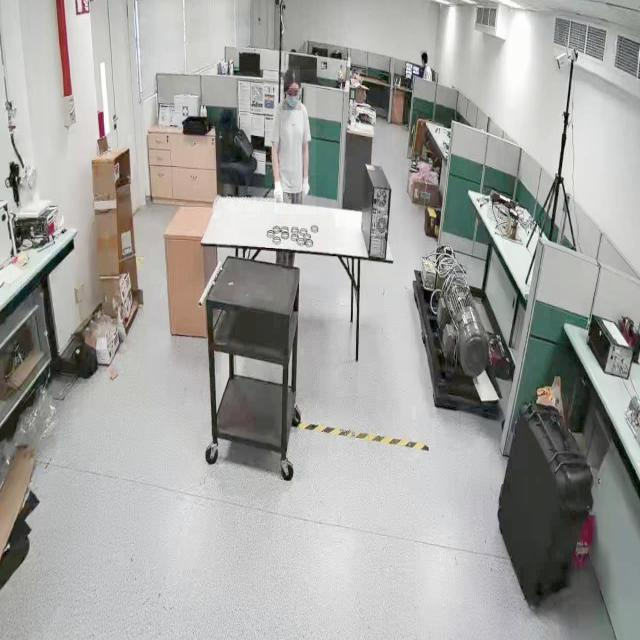face_mask: (283, 88, 301, 110)
hand_glove: (301, 178, 312, 204), (274, 182, 284, 201)
head_nohelmet: (282, 66, 300, 87), (420, 51, 428, 58)
person: (274, 69, 316, 215)
